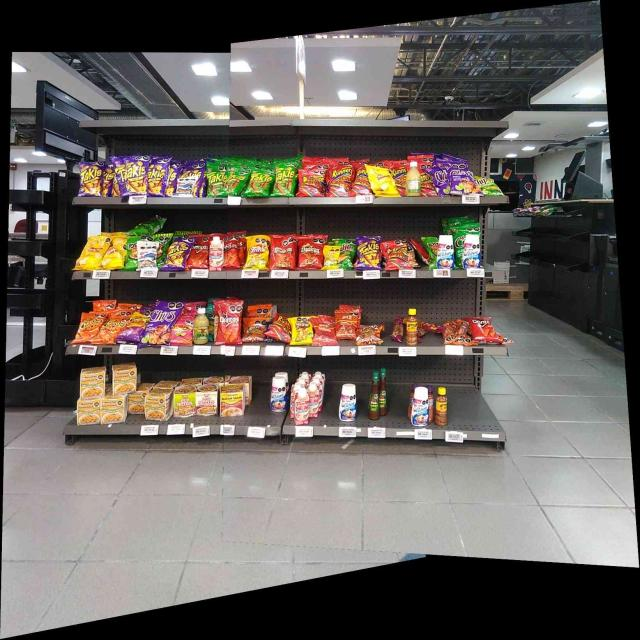bitzEnchilado90: (314, 320, 335, 344), (337, 310, 355, 338)
bitzHabanero: (419, 319, 442, 332), (393, 318, 402, 340)
botaneraChilito: (435, 387, 447, 426), (407, 308, 418, 346)
cheetosFlaminHot: (127, 312, 142, 341)
cheetosOriginal: (79, 313, 99, 342), (104, 316, 120, 342)
chipsFuego: (146, 302, 174, 345), (446, 160, 476, 194)
chipsPapatinas: (478, 177, 500, 195)
churrumais: (175, 318, 192, 344)
delPrimoSalsa: (405, 162, 421, 196), (194, 307, 208, 343)
doritosNacho: (218, 300, 241, 344), (472, 316, 498, 343), (225, 236, 240, 269), (192, 238, 208, 266)
fritosLimon: (247, 238, 268, 269), (291, 317, 312, 343)
leoCacahuates: (138, 242, 156, 268), (177, 178, 193, 196)
leoMix: (244, 317, 264, 341), (359, 325, 381, 344)
maruchanPollo: (81, 368, 105, 396), (112, 365, 136, 392), (147, 391, 170, 419), (76, 399, 100, 424), (102, 398, 126, 420)
maruchanRes: (220, 386, 245, 416)
nestleCarnation: (294, 389, 310, 424), (210, 237, 223, 270), (310, 382, 318, 418)
nestleLechera: (338, 384, 357, 422), (413, 388, 428, 427), (271, 376, 287, 412), (464, 233, 480, 268), (438, 236, 453, 268)
nissinCamaron: (174, 388, 195, 417)
nissinRes: (197, 386, 218, 416)
rancheritos: (298, 236, 322, 268), (272, 237, 294, 268)
rufflesQueso: (339, 240, 354, 267)
runners: (328, 162, 352, 195), (385, 240, 408, 270), (300, 170, 324, 197), (272, 314, 289, 340), (355, 164, 368, 195)
sabritasOriginal: (372, 167, 396, 196), (82, 238, 104, 268), (106, 240, 125, 270)
salsaBufalo: (369, 370, 380, 420), (381, 367, 387, 416)
semillasCalabaza: (325, 246, 337, 268)
takisFuego: (125, 157, 147, 195), (80, 162, 101, 196), (358, 237, 380, 269), (149, 158, 168, 195), (167, 237, 188, 269)
takisOriginal: (275, 164, 294, 196), (208, 163, 226, 196), (250, 169, 270, 196), (228, 168, 245, 195)
